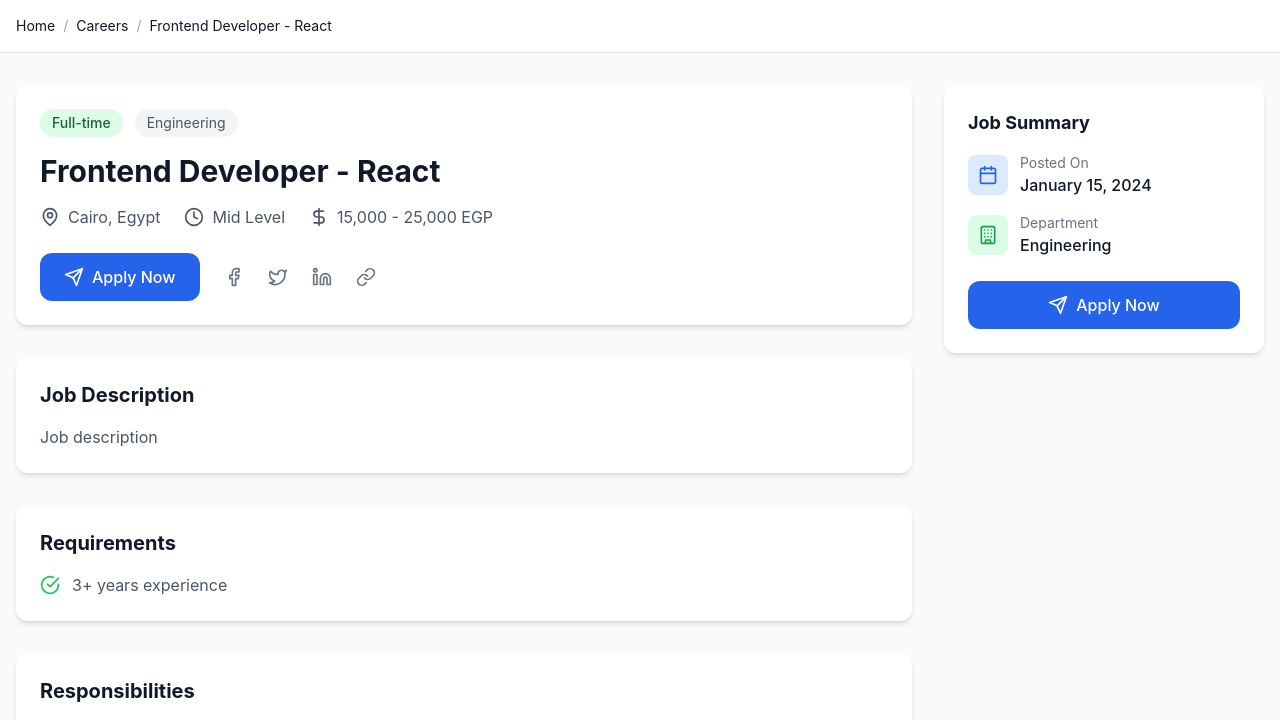
Test case: Job Detail Page › Application Modal › has resume upload field
Click the button "Apply Now" below "Cairo, Egypt" at [120, 277], box [40,253,200,301]
(page scrolled)
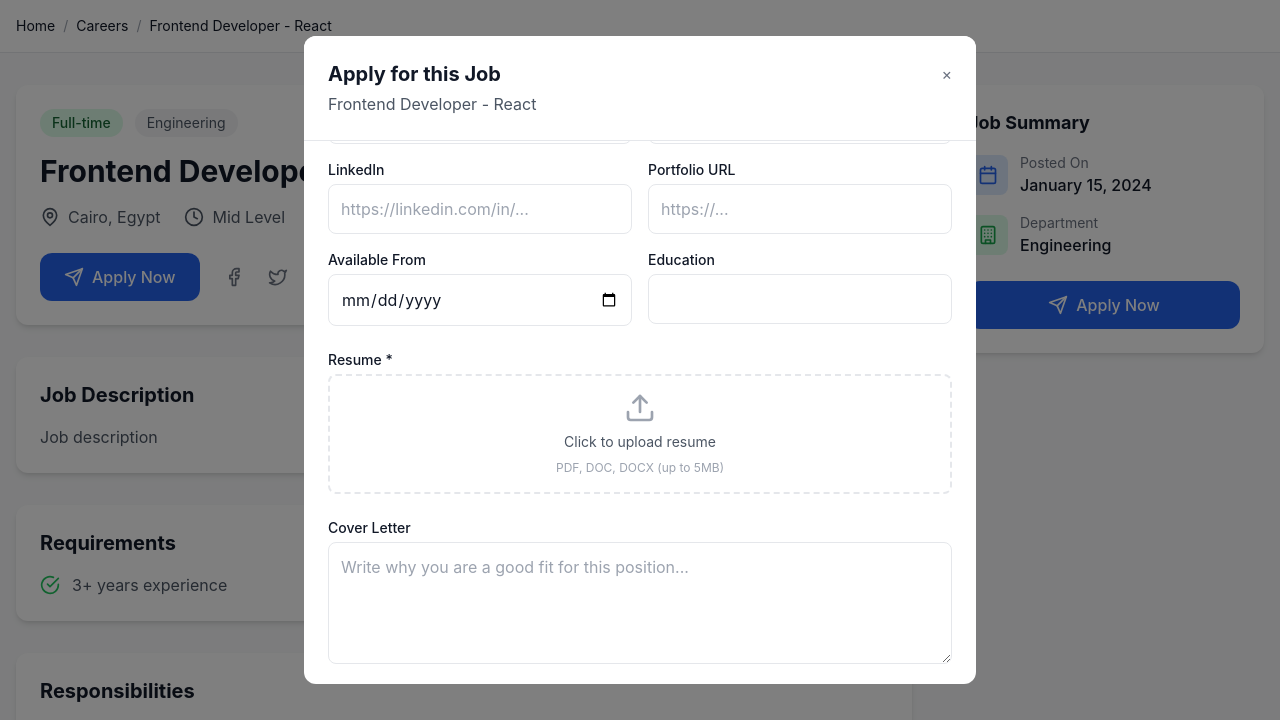
Expected: the text "Resume *" is shown, [328,351,393,368]
